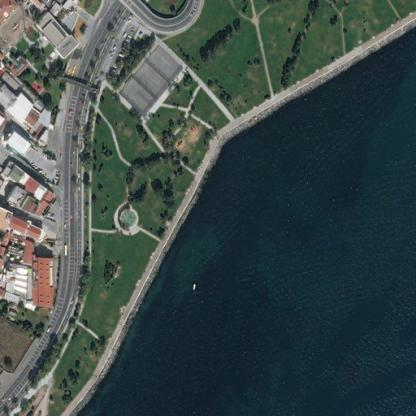ship: (26, 283, 29, 289)
